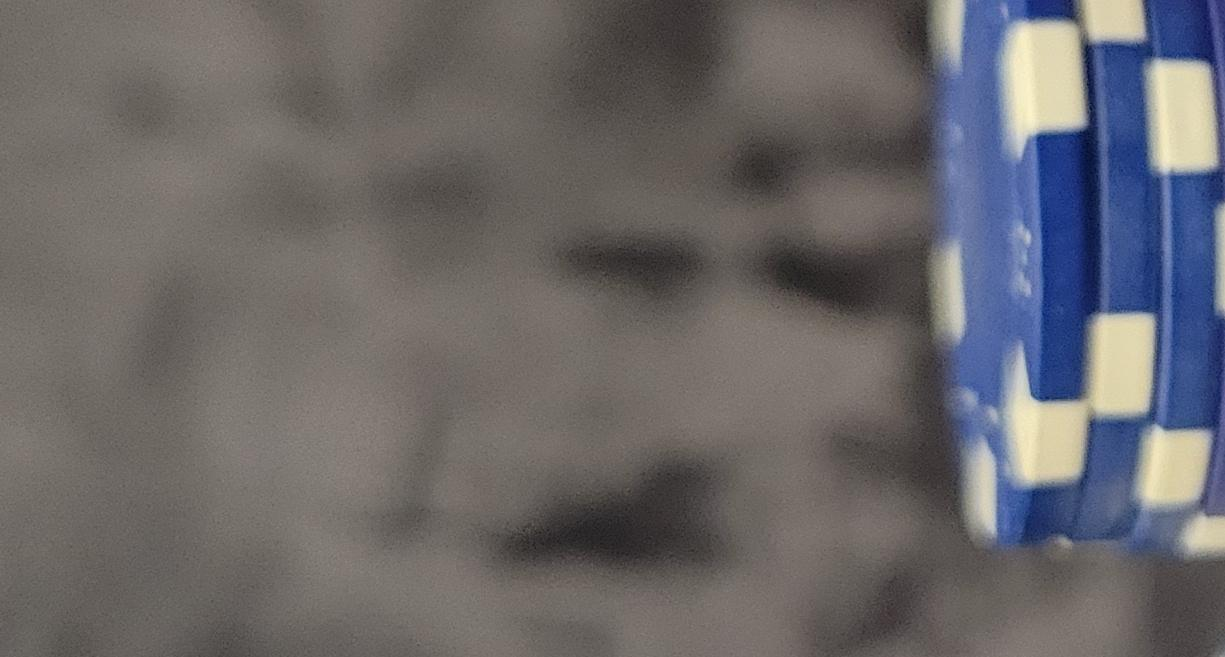Chip: (1, 463, 834, 657)
